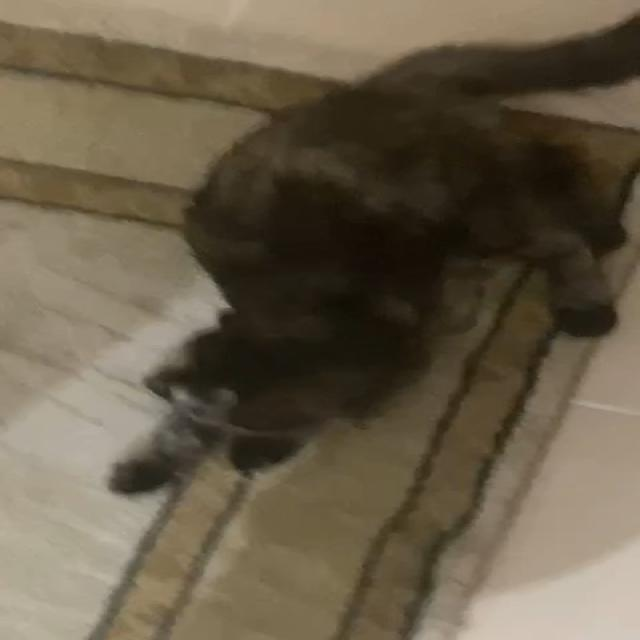authorized: (104, 11, 639, 495)
